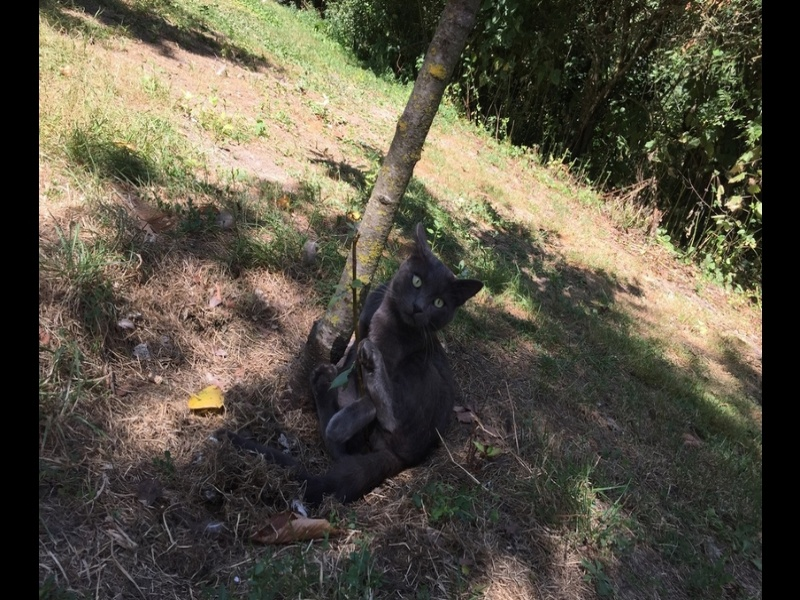cat: (215, 221, 486, 544)
